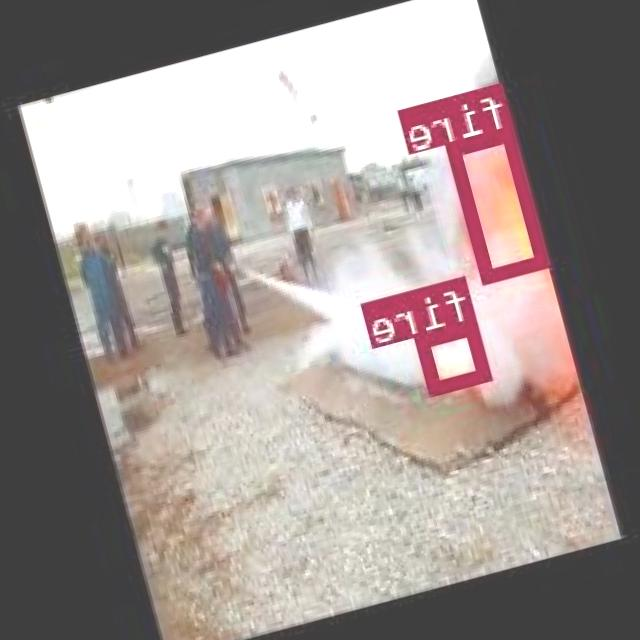fire: (448, 123, 551, 281), (418, 318, 492, 391)
